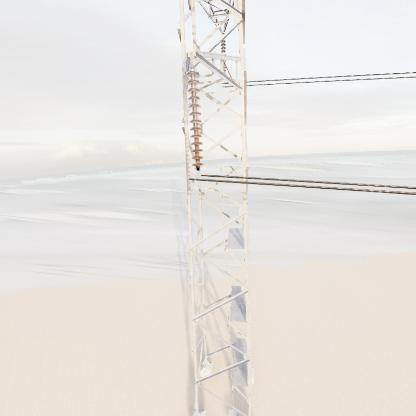insulator: (182, 67, 207, 172)
